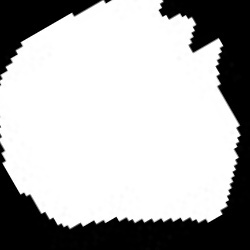spot: (3, 3, 240, 227)
